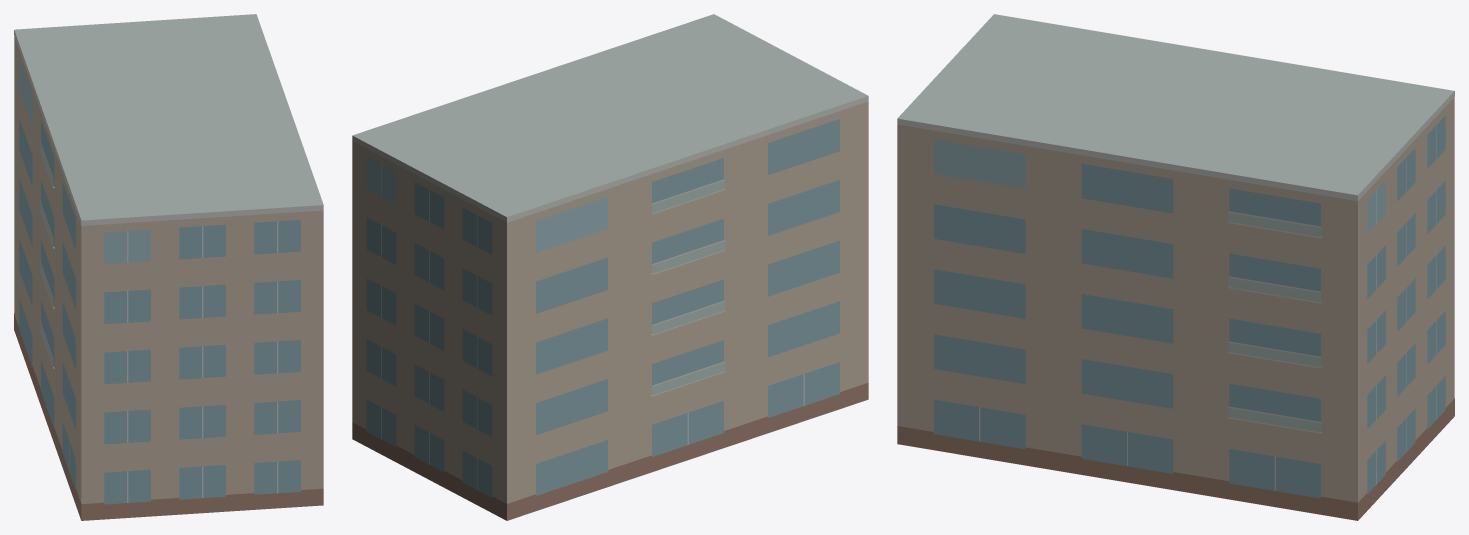
File: survey-upis-32664751.glb
3 renders of one model, left to right at view 1: azimuth 30°, elevation 25°; view 2: azimuth 150°, elevation 25°; view 3: azimuth 270°, elevation 25°, orthographic. The views are drawn at different scales.
Parts seen in each view (by area): view 1: survey-upis-32664751.tmp; view 2: survey-upis-32664751.tmp; view 3: survey-upis-32664751.tmp.
Boxes of the visible parts, box(x1,y1,x2,y2) form: survey-upis-32664751.tmp: box(14, 14, 323, 520); survey-upis-32664751.tmp: box(352, 14, 868, 520); survey-upis-32664751.tmp: box(897, 14, 1454, 520).
Bounding box in the file's own units: 16.02 × 13.4 × 20.81.
